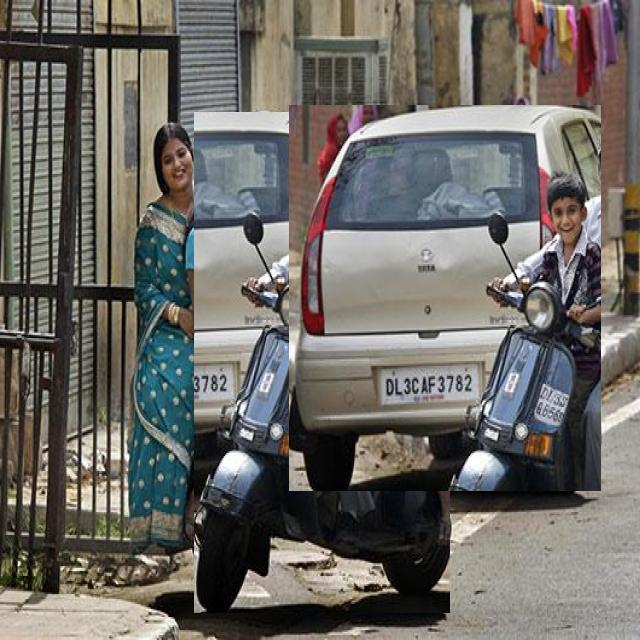car: (289, 105, 600, 491)
motorcycle: (194, 112, 450, 613)
